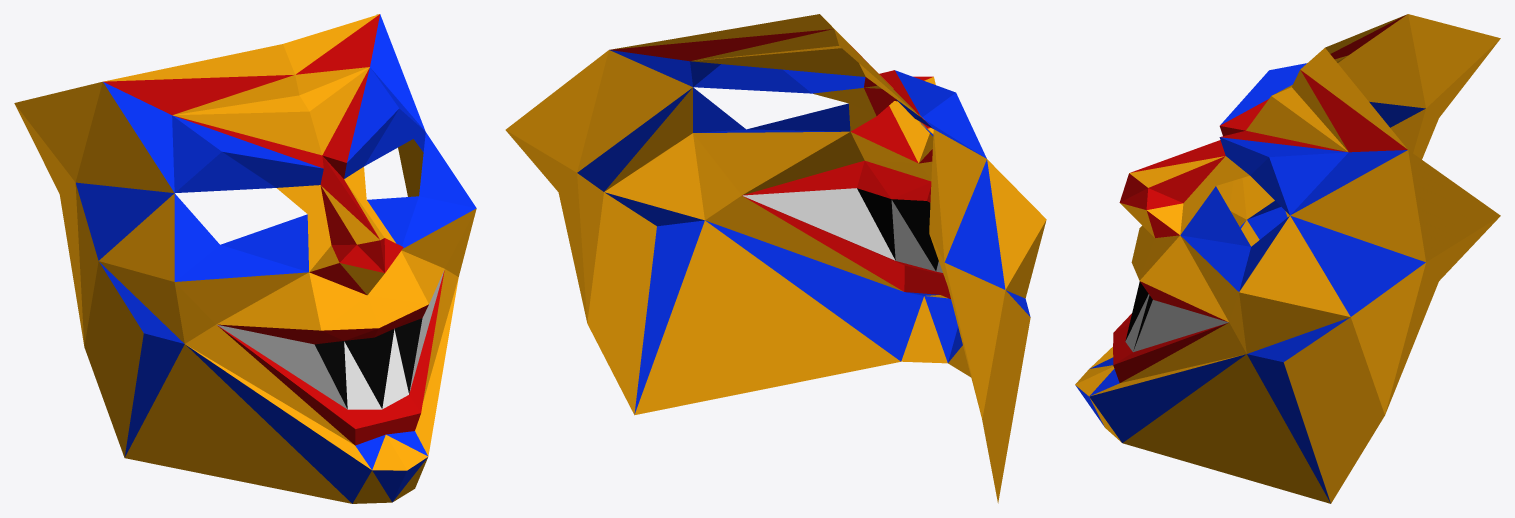
The model's file is facemask.obj.
The picture shows the model from 3 angles, left to right: view 1: azimuth 30°, elevation 25°; view 2: azimuth 150°, elevation 25°; view 3: azimuth 270°, elevation 25°; orthographic projection. The views are drawn at different scales.
Parts seen in each view (by area): view 1: Halloween_Joker_Mask; view 2: Halloween_Joker_Mask; view 3: Halloween_Joker_Mask.
Part boxes in pixels (box(x1,y1,x2,y2)): Halloween_Joker_Mask: box(14, 14, 476, 503); Halloween_Joker_Mask: box(505, 14, 1046, 503); Halloween_Joker_Mask: box(1075, 14, 1500, 503).
Bounding box in the file's own units: 6.7 × 6.69 × 6.79.
